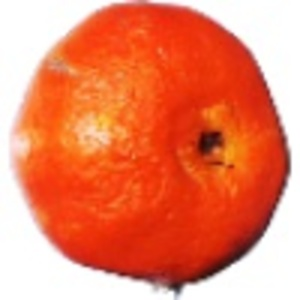tangerina: (9, 1, 292, 300)
